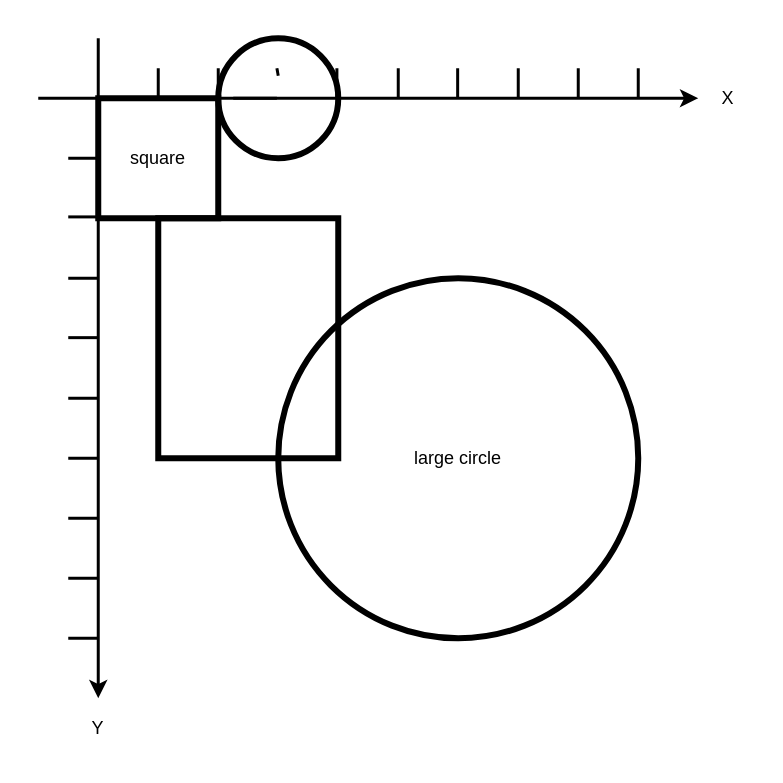
This 783x783 diagram has some shape labels left out. The centre of each missing label's shape, as x and y in pixels:
"rectangle" goes at point (247, 337).
"small circle" goes at point (277, 97).
